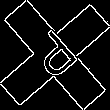P_SE: (25, 24, 85, 86)
